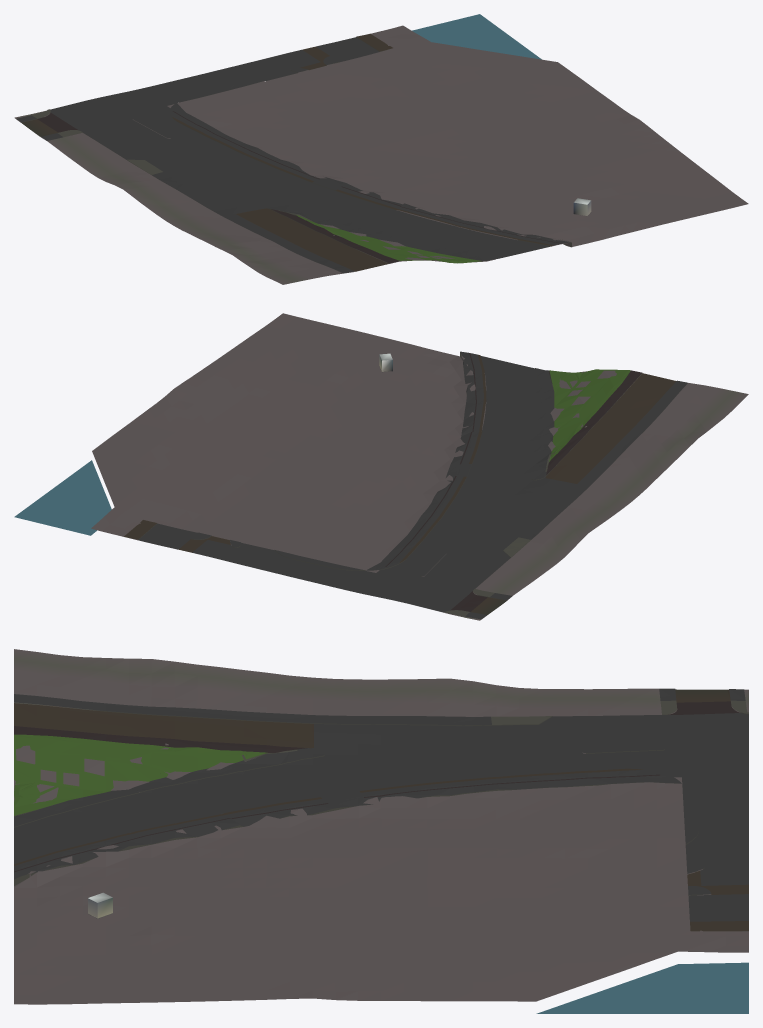
3 renders of one model, top to bottom at view 1: azimuth 30°, elevation 25°; view 2: azimuth 150°, elevation 25°; view 3: azimuth 270°, elevation 25°, orthographic. The views are drawn at different scales.
Visible parts, largest first — view 1: c_p00_p04; view 2: c_p00_p04; view 3: c_p00_p04.
Part boxes in pixels (box(x1,y1,x2,y2)): c_p00_p04: box(14, 14, 748, 284); c_p00_p04: box(14, 313, 748, 620); c_p00_p04: box(14, 649, 748, 1013).
Bounding box in the file's own units: 128 × 10.42 × 128.
